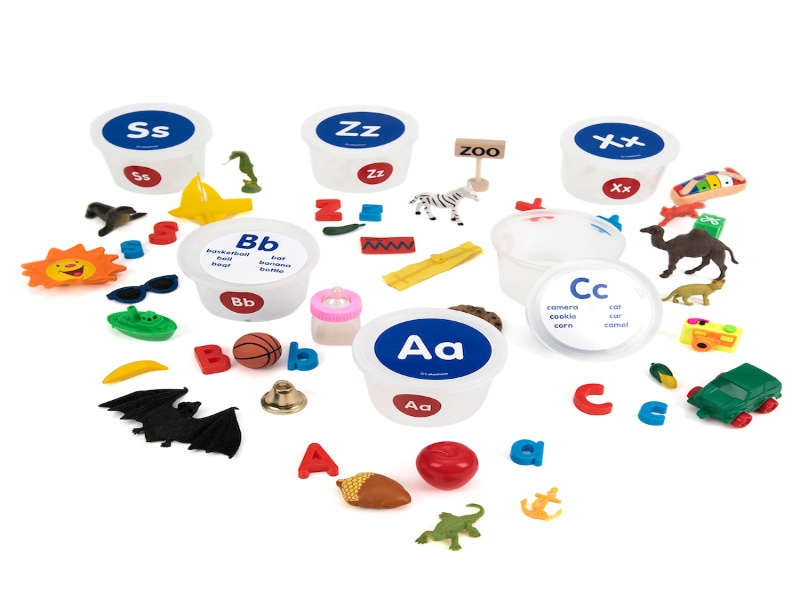letter: (562, 379, 621, 425), (506, 429, 552, 477), (288, 439, 344, 478), (304, 191, 349, 222), (283, 336, 313, 375), (398, 333, 430, 361), (333, 119, 363, 144), (591, 131, 622, 154), (567, 275, 592, 303), (360, 202, 385, 230), (121, 118, 151, 141), (444, 331, 466, 362), (358, 120, 383, 143), (616, 131, 649, 148), (150, 121, 175, 143), (589, 278, 614, 299), (258, 231, 281, 253), (239, 231, 260, 251)
